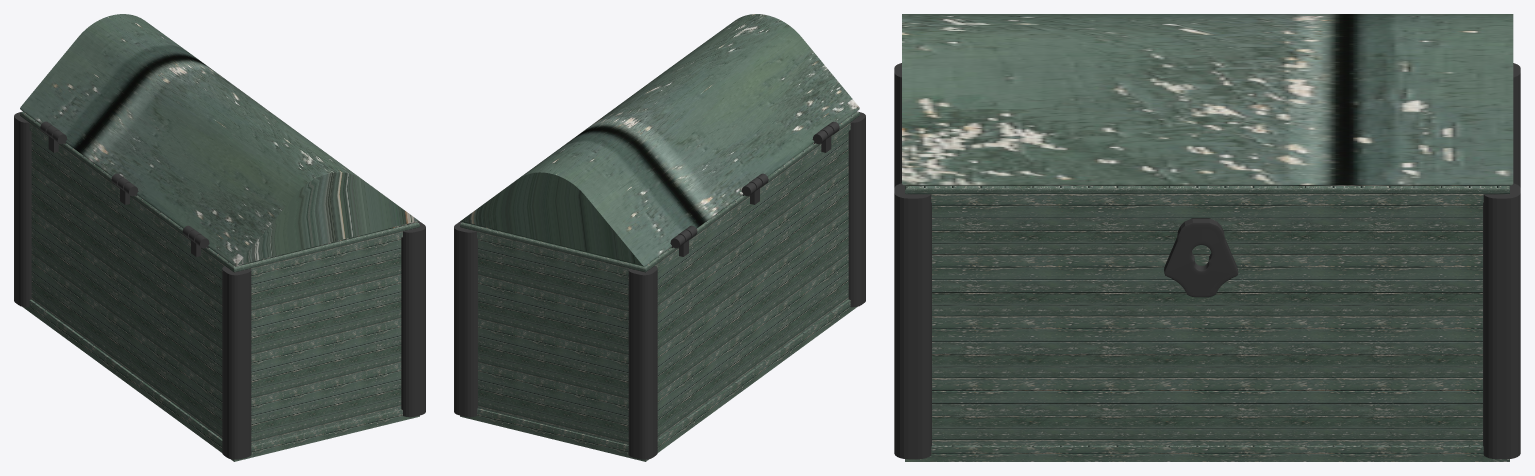
File: Chest.fbx
3 renders of one model, left to right at view 1: azimuth 30°, elevation 25°; view 2: azimuth 150°, elevation 25°; view 3: azimuth 270°, elevation 25°, orthographic. The views are drawn at different scales.
Parts seen in each view (by area): view 1: Chest; view 2: Chest; view 3: Chest.
Boxes of the visible parts, left/top/right/bottom form: Chest: left=14, top=14, right=425, bottom=461; Chest: left=454, top=14, right=865, bottom=461; Chest: left=894, top=14, right=1520, bottom=461.
Bounding box in the file's own units: 214 × 274 × 414.
